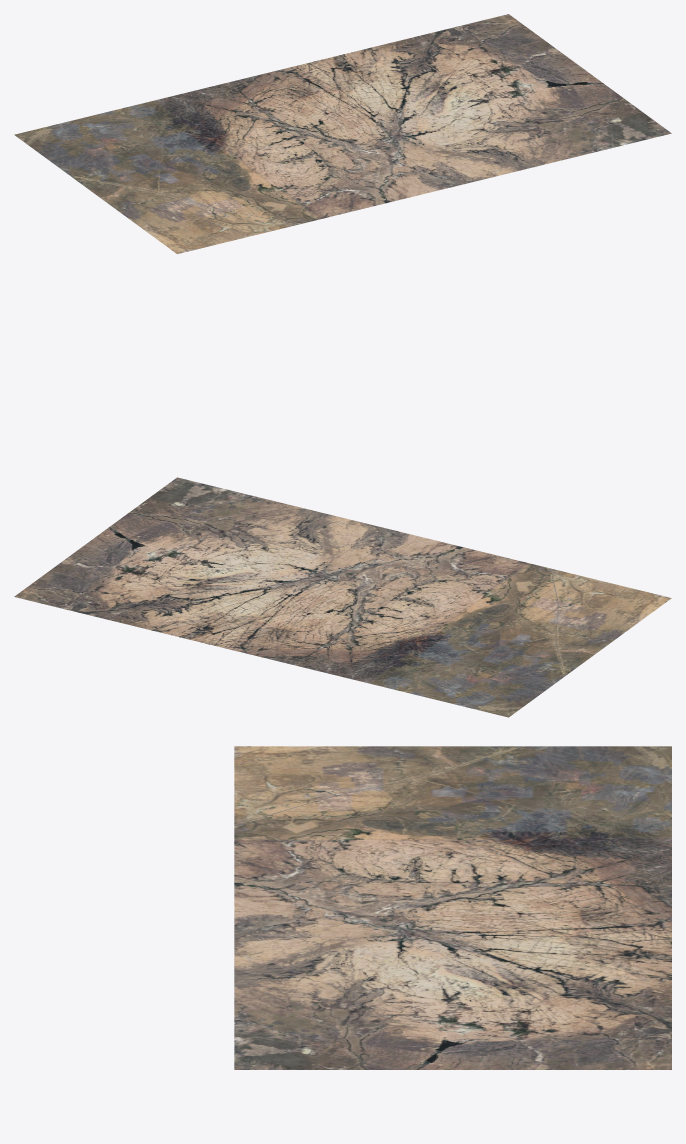
File: gorabektayta.glb
3 renders of one model, top to bottom at view 1: azimuth 30°, elevation 25°; view 2: azimuth 150°, elevation 25°; view 3: azimuth 270°, elevation 25°, orthographic. The views are drawn at different scales.
Visible parts, largest first — view 1: EXPORT_GOOGLE_SAT_WM; view 2: EXPORT_GOOGLE_SAT_WM; view 3: EXPORT_GOOGLE_SAT_WM.
Boxes of the visible parts, x1=… form: EXPORT_GOOGLE_SAT_WM: x1=14, y1=14, x2=671, y2=254; EXPORT_GOOGLE_SAT_WM: x1=14, y1=477, x2=671, y2=717; EXPORT_GOOGLE_SAT_WM: x1=234, y1=746, x2=671, y2=1069.
Size of the model in its own units: 34244 by 12236 by 29423.
Materials: 1 (1 with a texture image).
